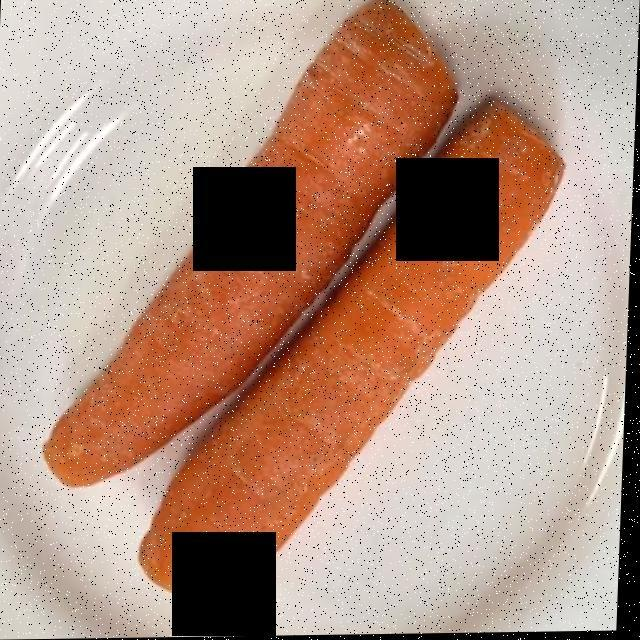carrots: (36, 4, 602, 596)
